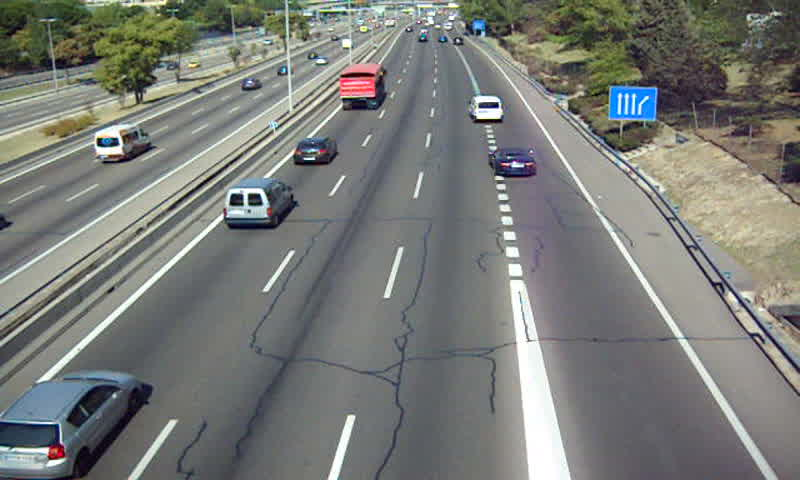car: (1, 371, 143, 476), (491, 147, 539, 178), (291, 137, 337, 166)
truck: (339, 64, 386, 110)
van: (222, 179, 294, 229), (468, 95, 503, 122)
